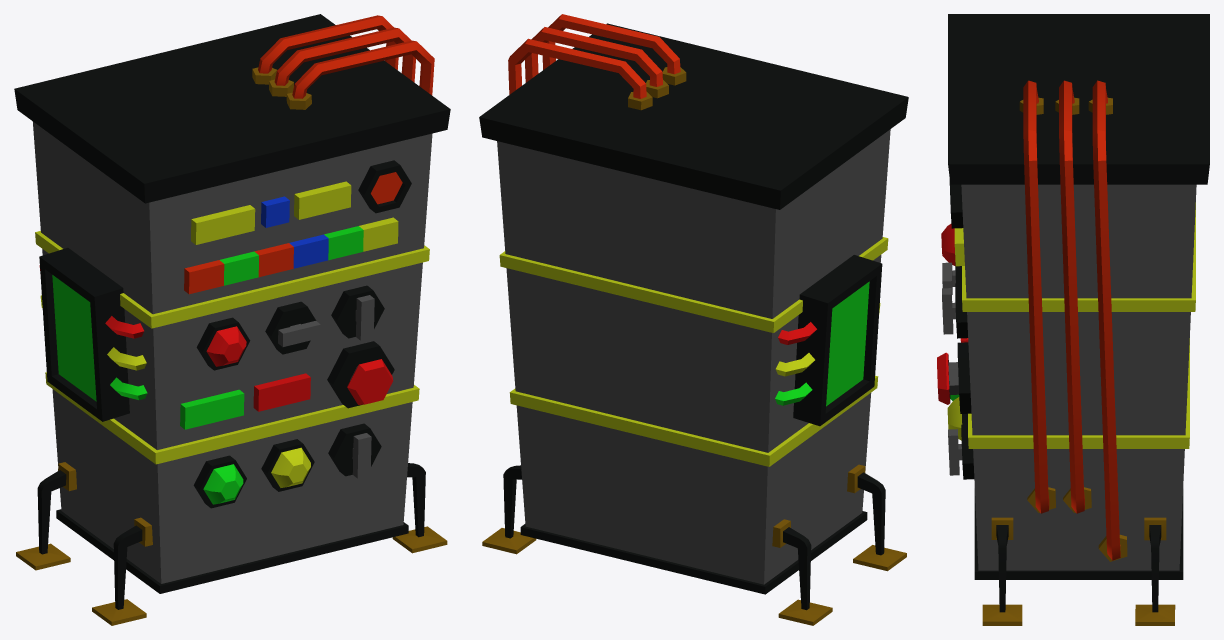
File: maquina2.fbx
3 views of the same model, side by side, from view 1: azimuth 30°, elevation 25°; view 2: azimuth 150°, elevation 25°; view 3: azimuth 270°, elevation 25° (orthographic). The views are drawn at different scales.
Parts seen in each view (by area): view 1: machine_2; view 2: machine_2; view 3: machine_2.
Part boxes in pixels (box(x1,y1,x2,y2)): machine_2: box(14, 14, 450, 625); machine_2: box(479, 14, 908, 625); machine_2: box(937, 14, 1209, 625).
Size of the model in its own units: 498 by 673 by 338.
